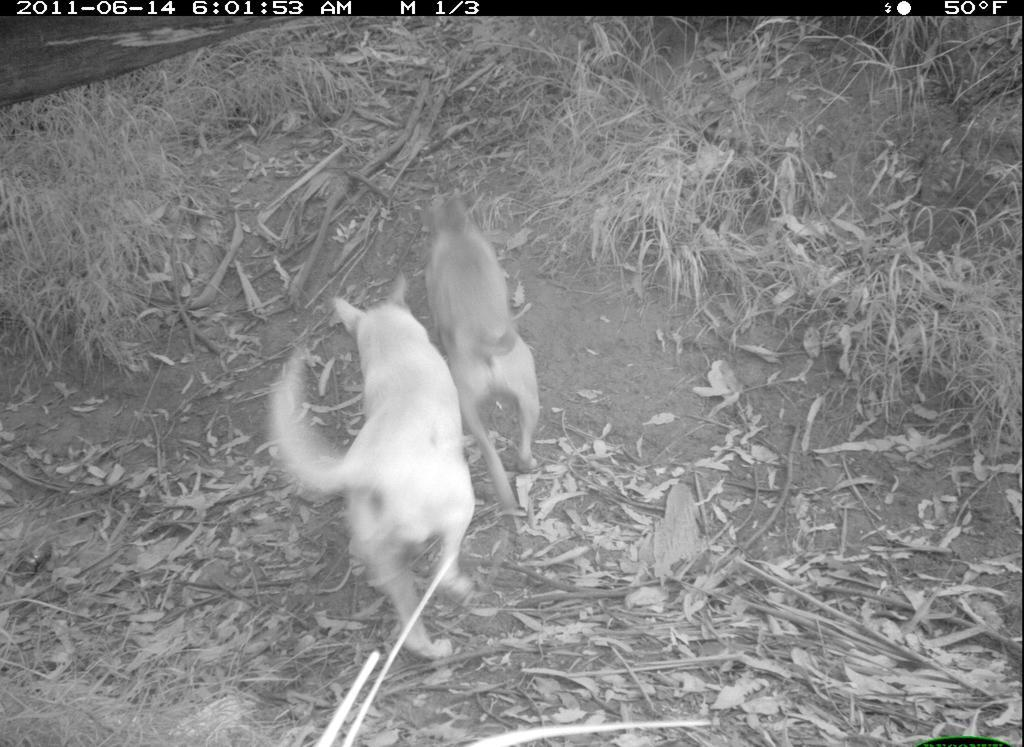dog: (268, 273, 479, 665), (420, 187, 570, 521)
